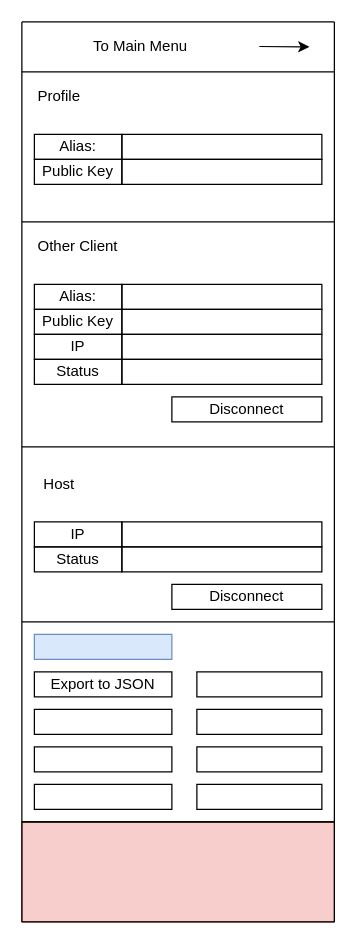
Some shapes in this 358 by 945 pixel diagram are drawn without their labels. Each missing label, with the box of its shape:
[Unused space will extend indefinettly ]: (21, 821, 334, 922)
Additional Actions: (33, 633, 172, 659)
